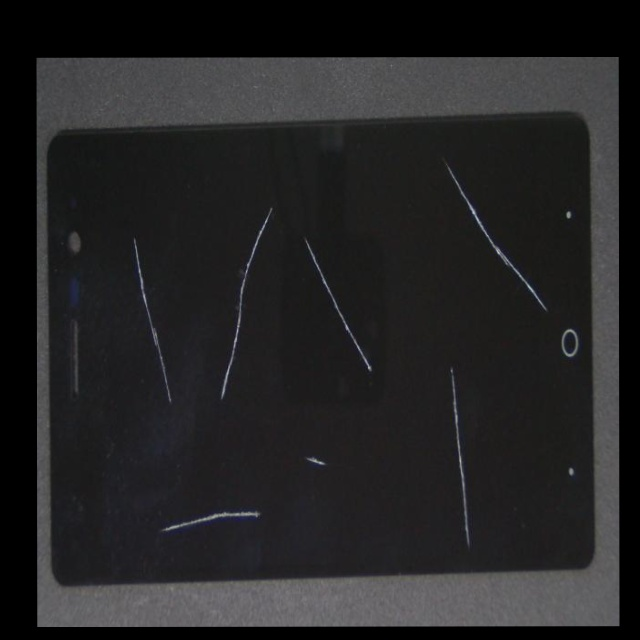scratch: (190, 234, 543, 556), (248, 351, 619, 627), (212, 262, 478, 627), (188, 282, 363, 627), (108, 334, 350, 505), (350, 270, 619, 361), (131, 339, 234, 503)
